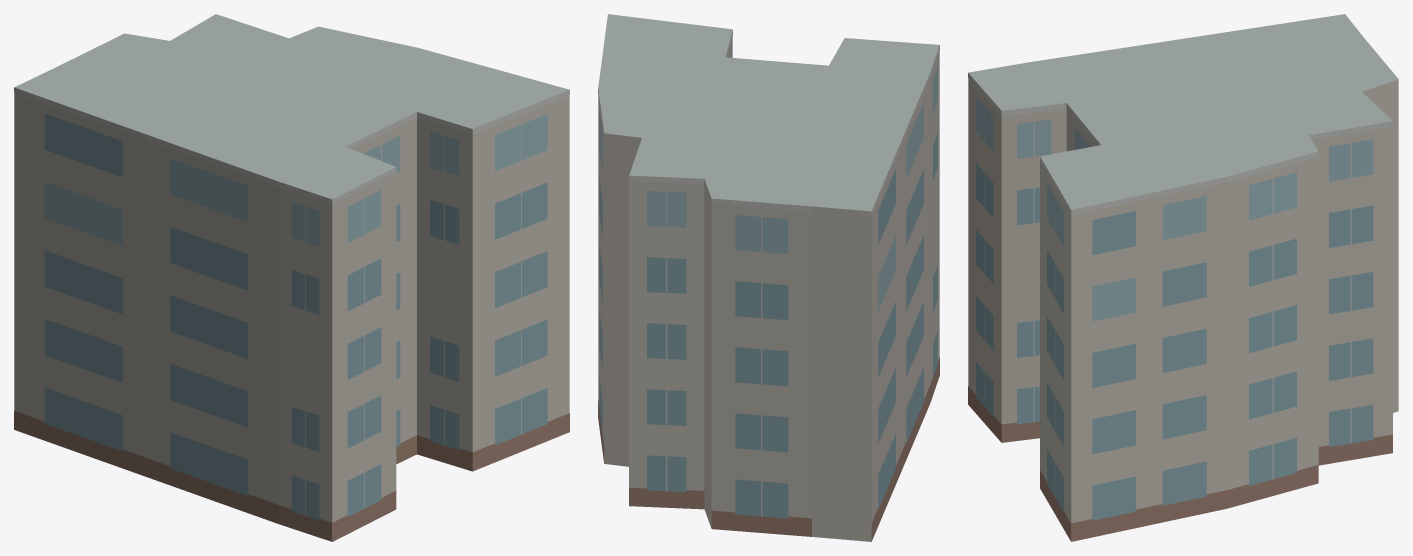
File: survey-upis-32843854.glb
The picture shows the model from 3 angles, left to right: view 1: azimuth 30°, elevation 25°; view 2: azimuth 150°, elevation 25°; view 3: azimuth 270°, elevation 25°; orthographic projection. The views are drawn at different scales.
Parts seen in each view (by area): view 1: survey-upis-32843854.tmp; view 2: survey-upis-32843854.tmp; view 3: survey-upis-32843854.tmp.
Part boxes in pixels (x1,y1,x2,y2): survey-upis-32843854.tmp: (14,14,569,541); survey-upis-32843854.tmp: (598,14,939,541); survey-upis-32843854.tmp: (968,14,1398,541).
Bounding box in the file's own units: 19.38 × 15.3 × 18.
